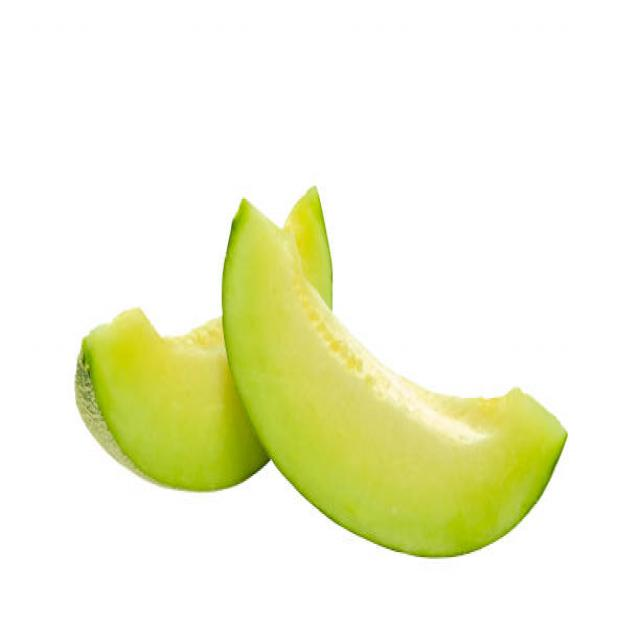melon: (270, 300, 569, 564), (70, 291, 226, 499)
